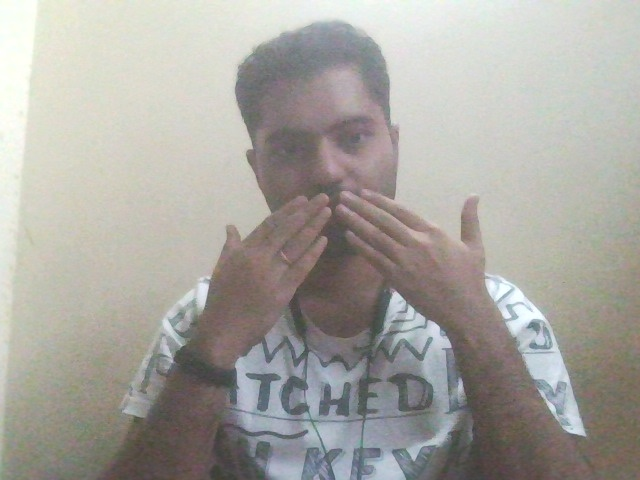Y: (184, 187, 530, 350)
